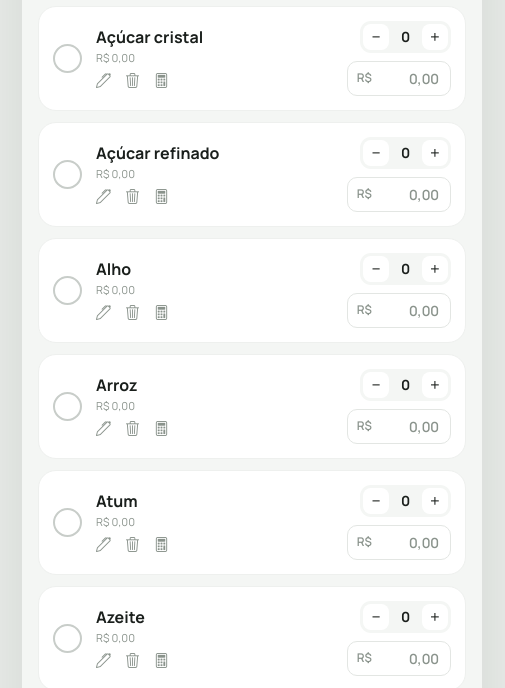
it: altera quantidade e preço e atualiza o total
(page scrolled)
Click the button named "Aumentar Arroz": coordinates (435, 385) [422,372,448,398]
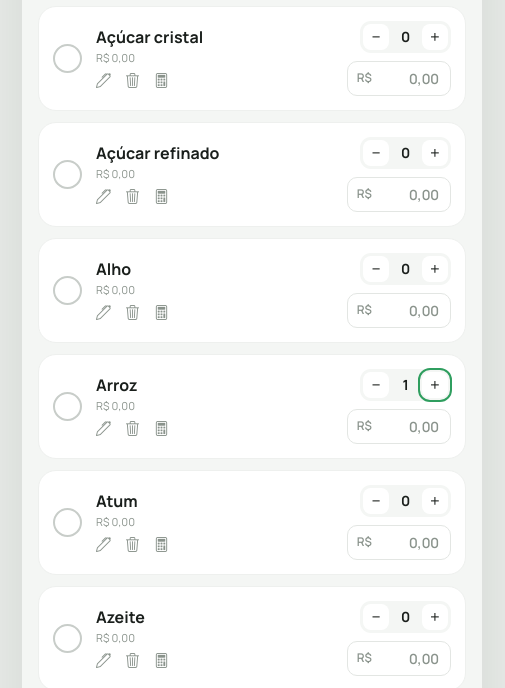
Click the button named "Aumentar Arroz": coordinates (435, 385) [422,372,448,398]
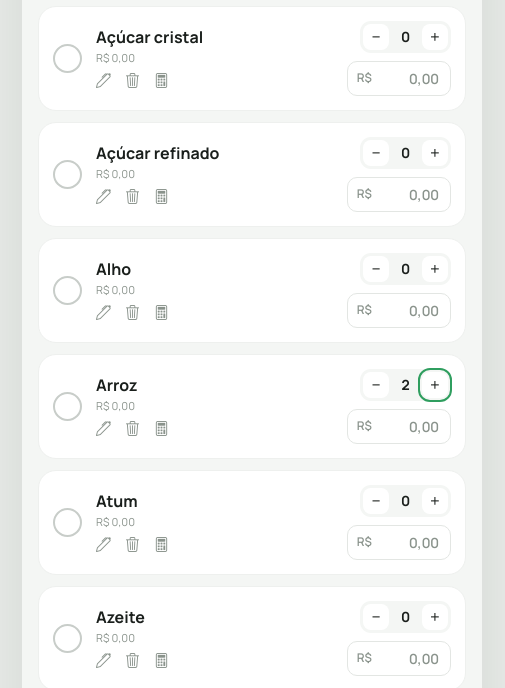
In the field named "Preço de Arroz": coordinates (408, 426) [375,415,441,438], type "1250"
(page scrolled)
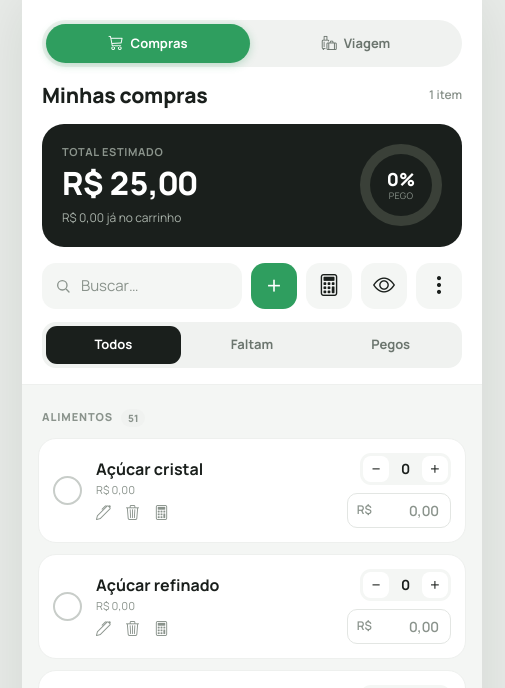
Expected: the text "1 item" is shown, [429,86,462,104]
Expected: the text with test id "total-estimado" reads "R$ 25,00", [62,161,197,205]
